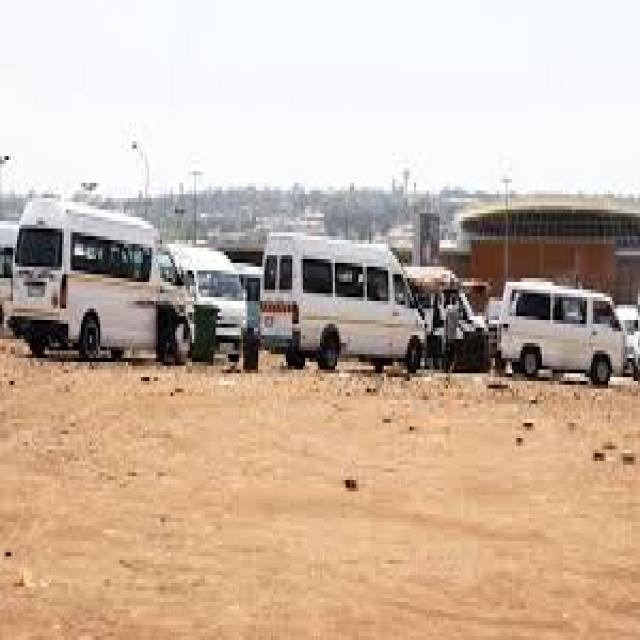MiniBus taxi: (11, 190, 188, 374), (258, 221, 425, 381), (497, 274, 634, 389)
